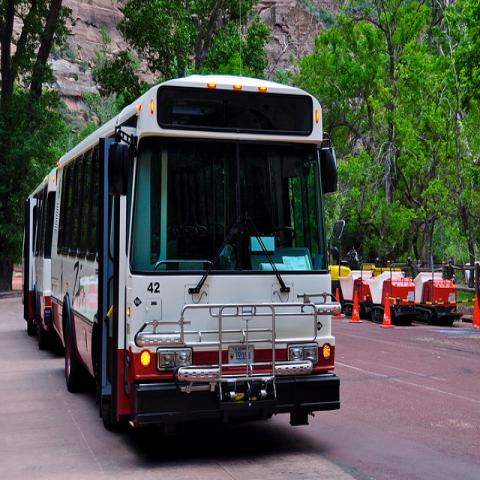bus: (51, 73, 342, 434), (22, 168, 56, 349)
